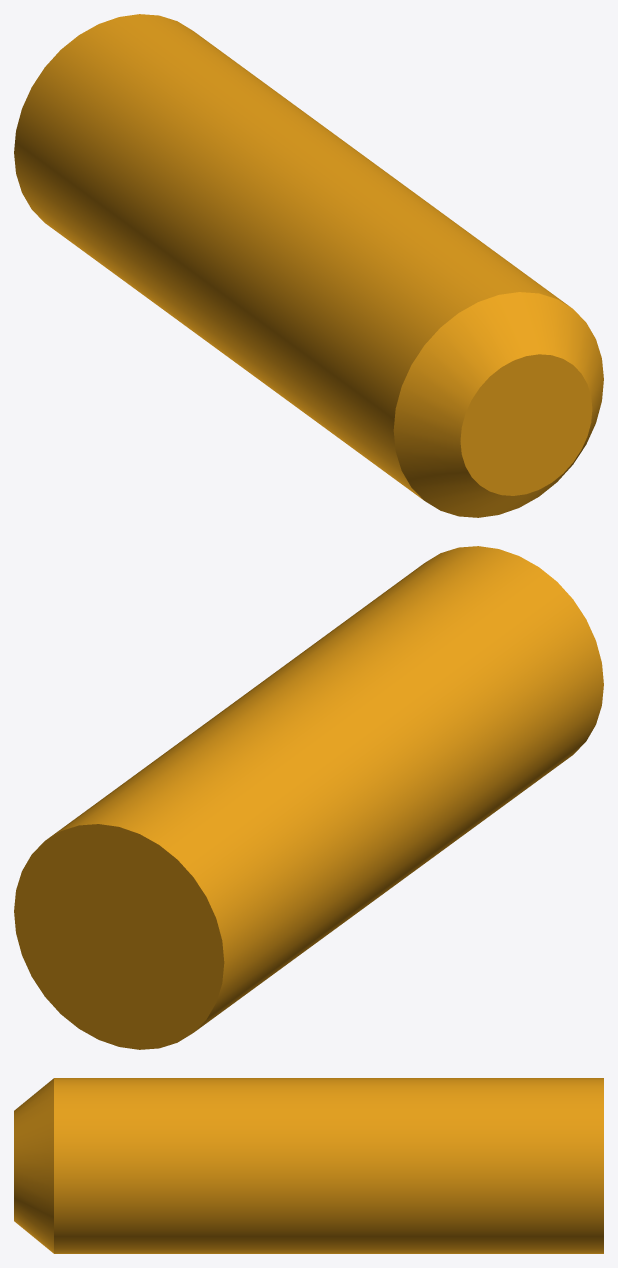
Rendered from bullet_case_high.glb.
The picture shows the model from 3 angles, top to bottom: view 1: azimuth 30°, elevation 25°; view 2: azimuth 150°, elevation 25°; view 3: azimuth 270°, elevation 25°; orthographic projection. The views are drawn at different scales.
Parts seen in each view (by area): view 1: Cylinder; view 2: Cylinder; view 3: Cylinder.
Boxes of the visible parts, <box> form: Cylinder: <box>14,14,603,517</box>; Cylinder: <box>14,546,603,1049</box>; Cylinder: <box>14,1078,603,1253</box>.
Bounding box in the file's own units: 0.041 × 0.041 × 0.1374.
